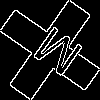M: (25, 25, 86, 86)
